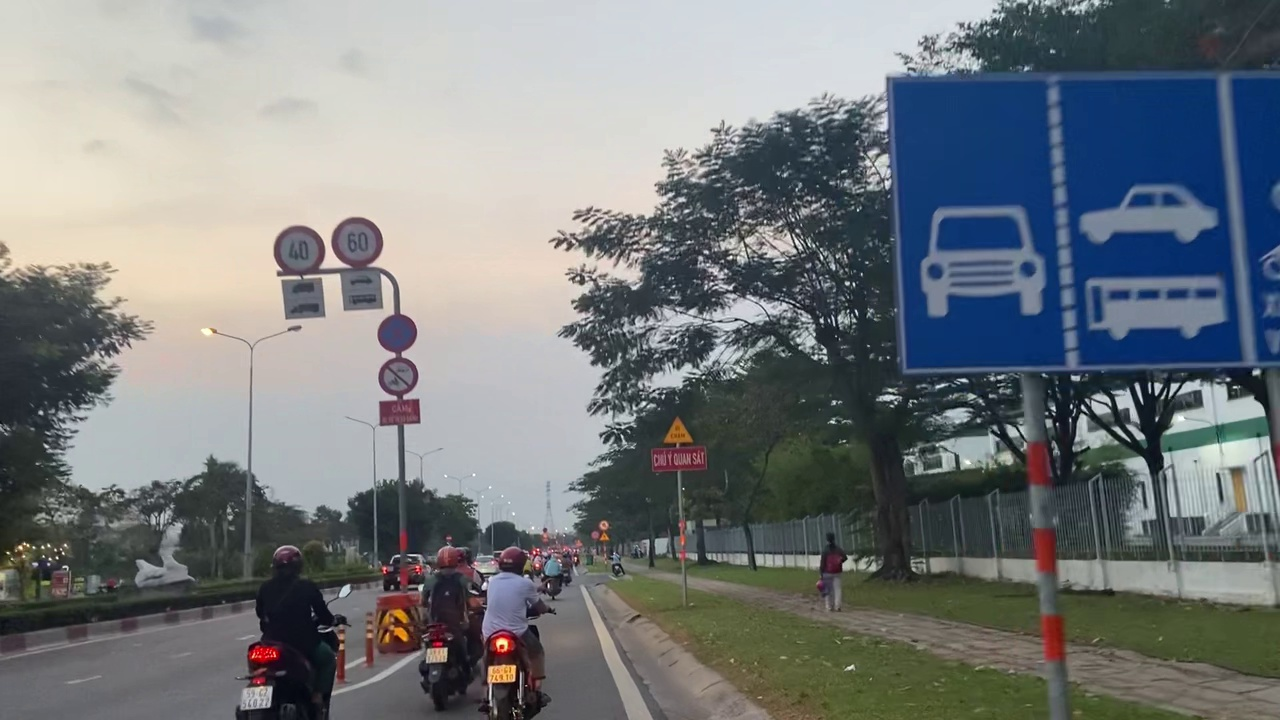gioi_han_40km: (272, 224, 326, 278)
